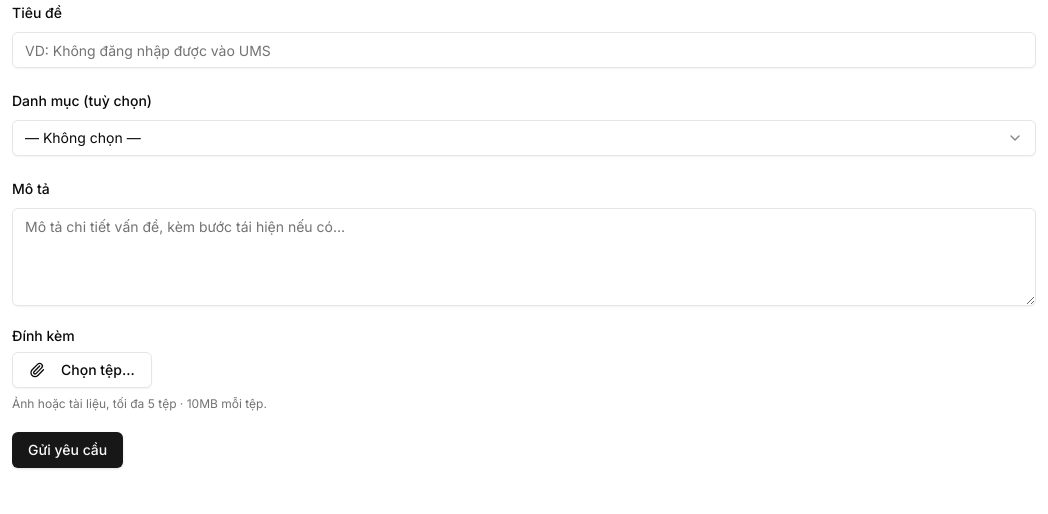
Test: TicketForm (S1) › S1-X2: maps a 422 to the title field and preserves the form
Type "Mất điện phòng A1" into the field labelled "Tiêu đề". click: (524, 50)
box: [12,32,1036,68]
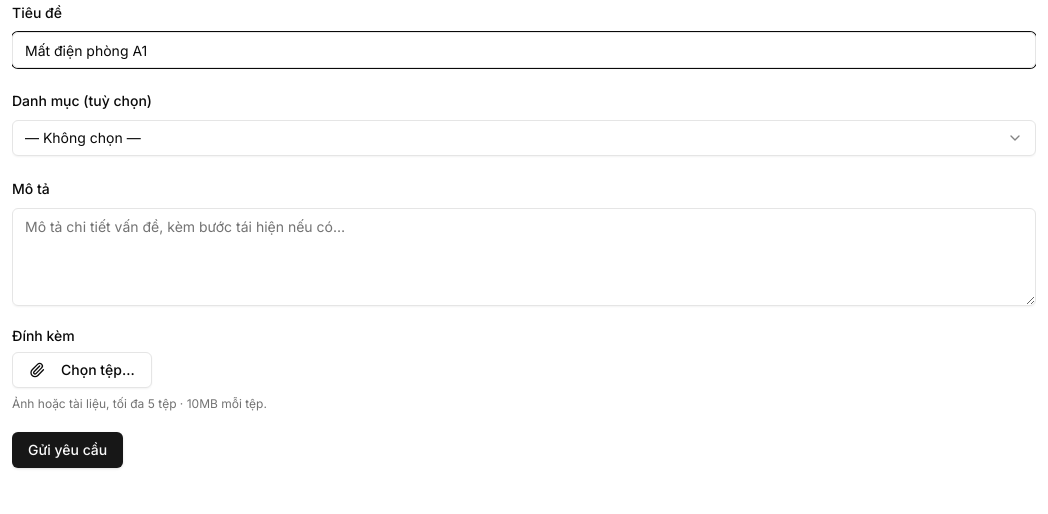
Type "Phòng A1 mất điện từ sáng" into the text box labelled "Mô tả". click: (524, 257)
box: [12,208,1036,306]
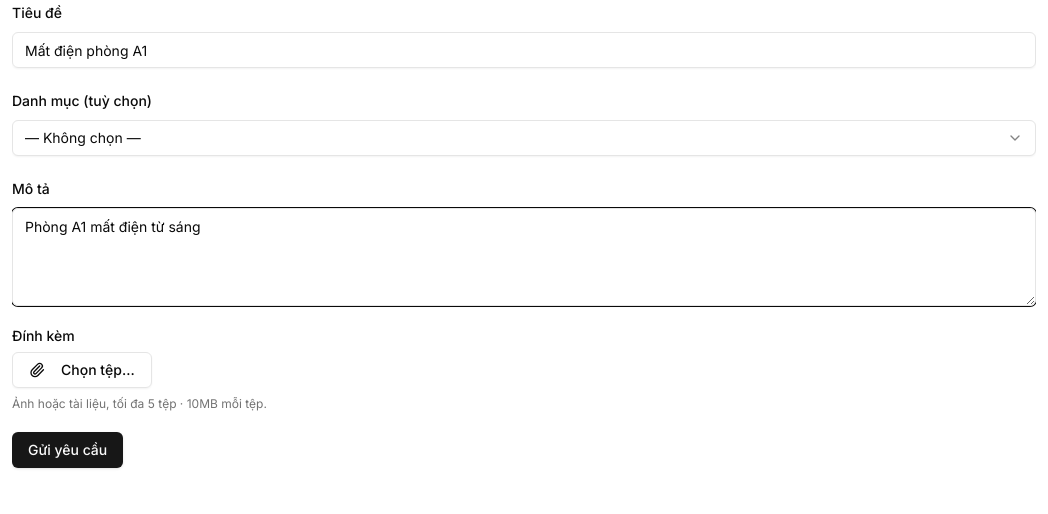
Click the button "Gửi yêu cầu". click: (68, 450)
box: [12,432,123,468]
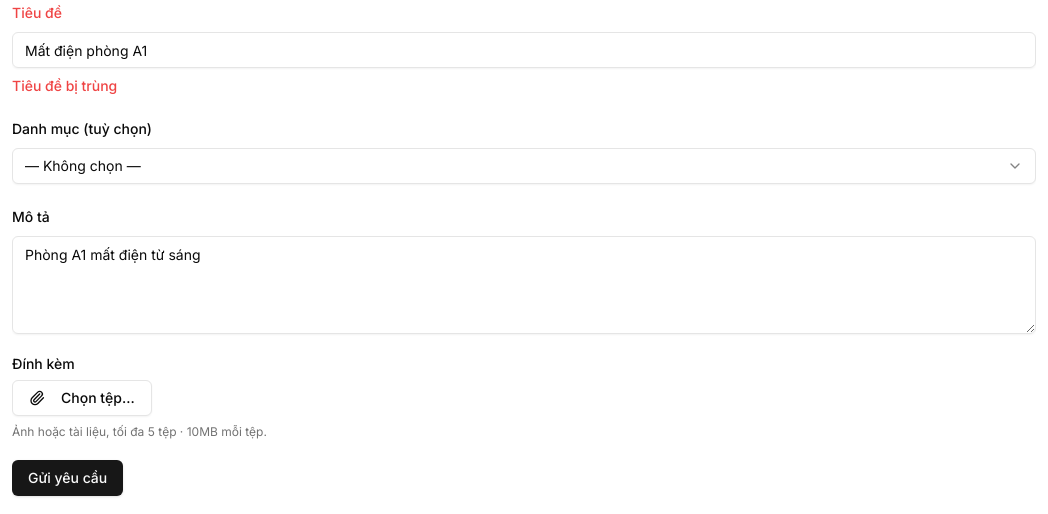
Expected: the text "Tiêu đề bị trùng" is shown, [12,77,117,94]
